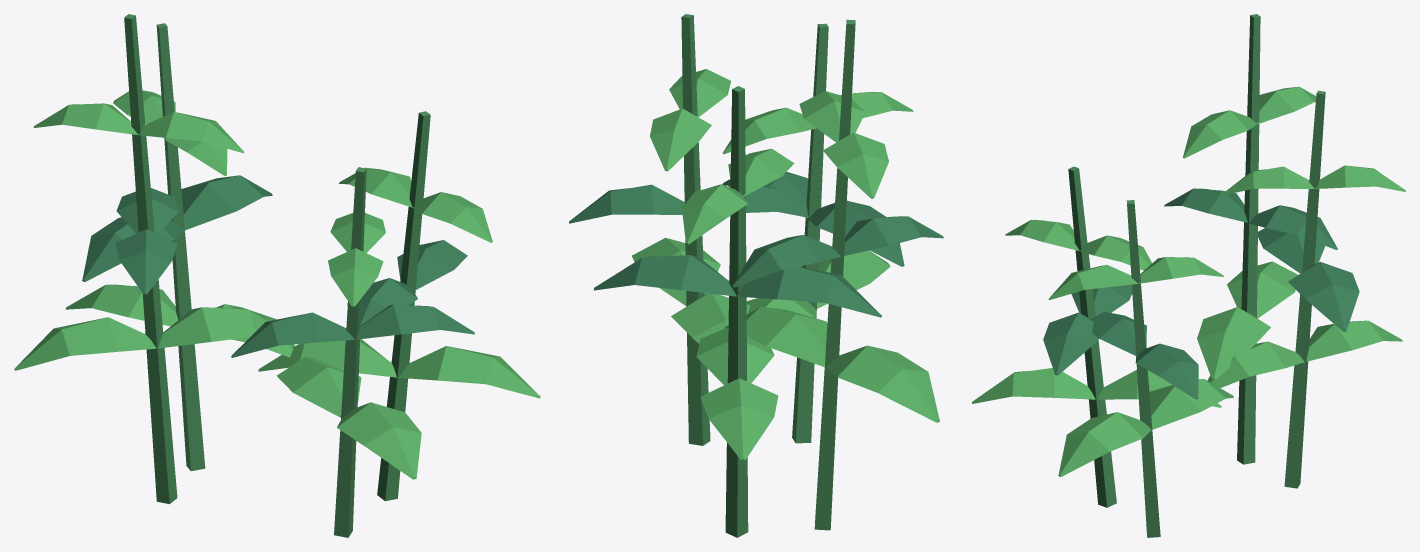
The model's file is nettle_c.glb.
3 renders of one model, left to right at view 1: azimuth 30°, elevation 25°; view 2: azimuth 150°, elevation 25°; view 3: azimuth 270°, elevation 25°, orthographic. The views are drawn at different scales.
Visible parts, largest first — view 1: NettleC; view 2: NettleC; view 3: NettleC.
Part boxes in pixels (box(x1,y1,x2,y2)): NettleC: box(14, 14, 540, 537); NettleC: box(569, 14, 943, 537); NettleC: box(972, 14, 1405, 537).
Bounding box in the file's own units: 0.6796 × 0.7927 × 0.7197.
